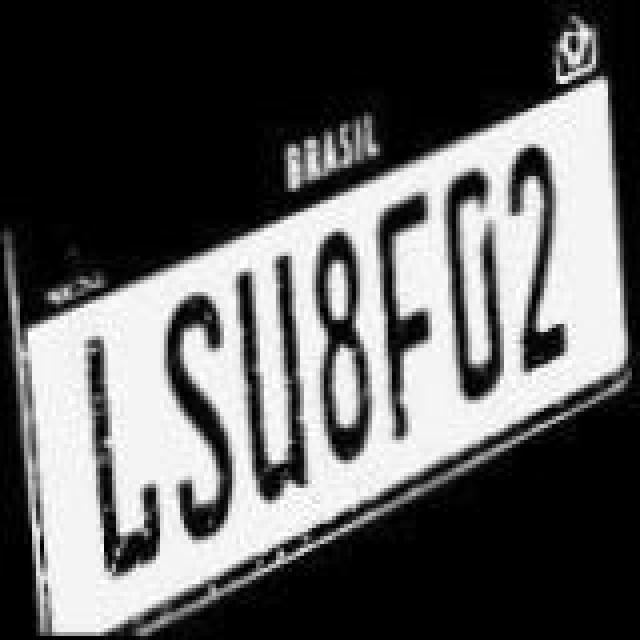2: (500, 144, 576, 380)
8: (310, 228, 374, 468)
D: (440, 166, 508, 402)
F: (370, 192, 442, 444)
L: (74, 316, 166, 568)
S: (162, 298, 238, 542)
U: (228, 254, 316, 506)
